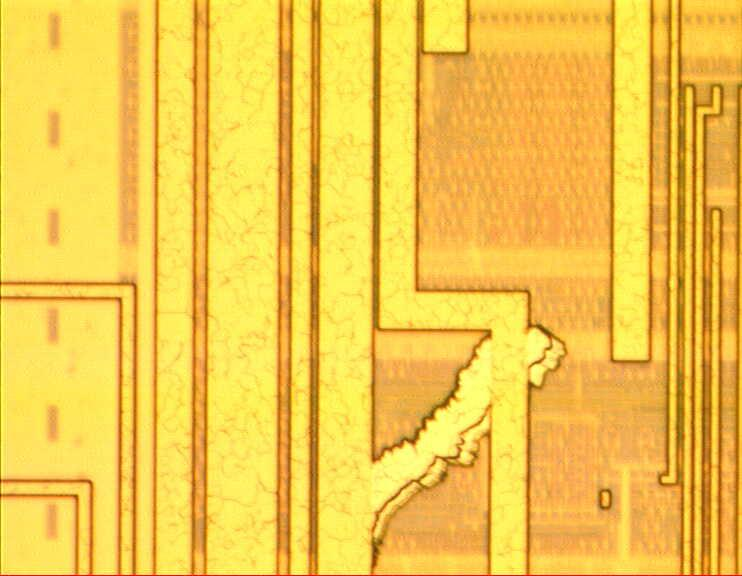BLOCK ETCH: (356, 317, 569, 557)
